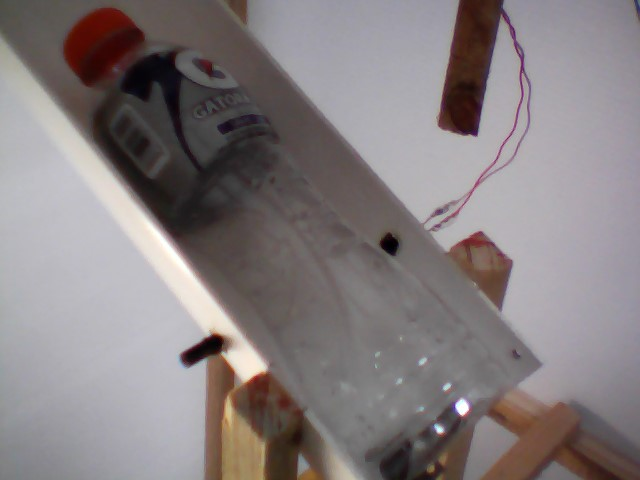plastico: (63, 4, 523, 480)
